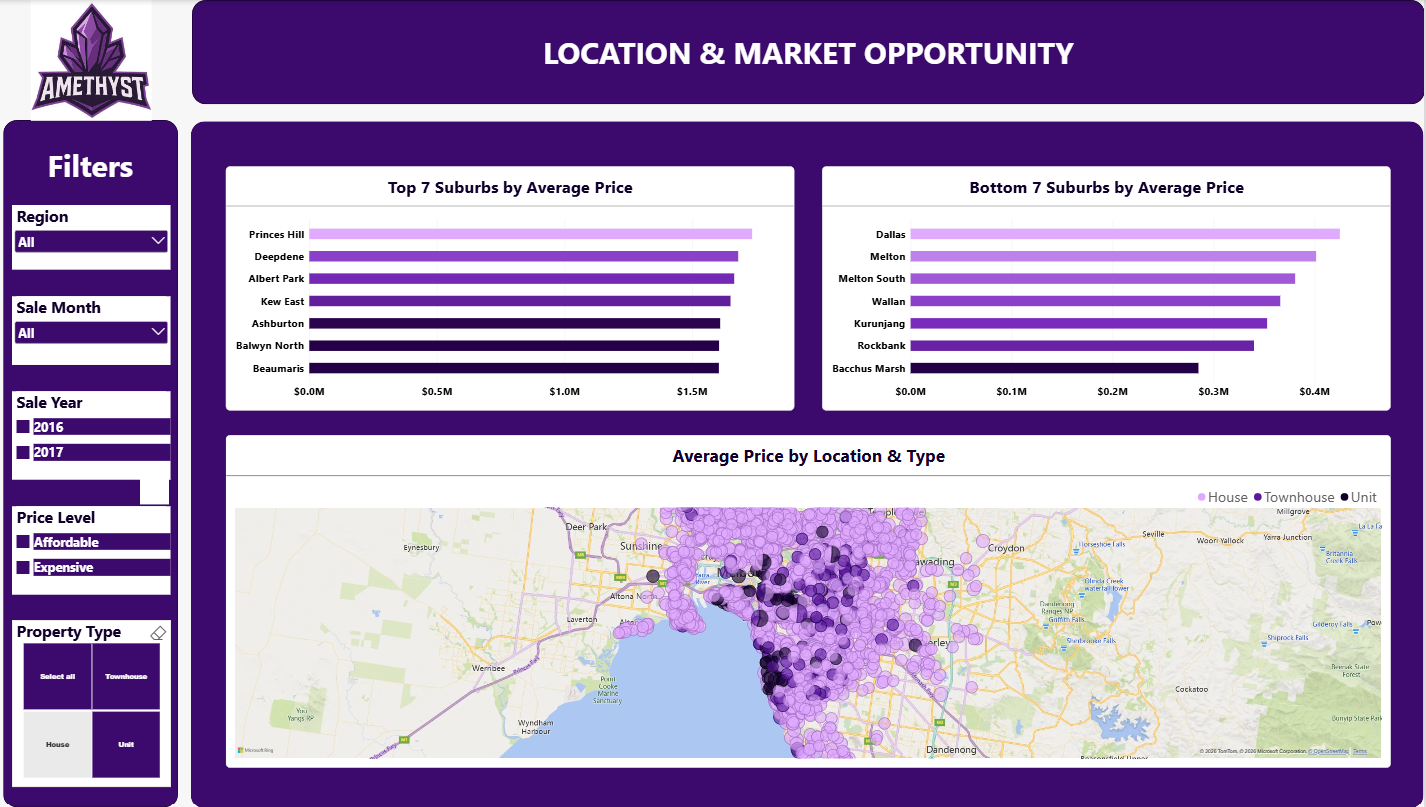

The dashboard page shown, as its layout file describes it:
{"tool":"powerbi","page":{"name":"LOCATION & MARKET OPPORTUNITY","canvas":[2560,1440],"ordinal":2},"visuals":[{"type":"shape","box":[364.3,0,2195.7,185.8],"z":0},{"type":"textbox","box":[912.1,55.5,1100.3,74.8],"z":1000},{"type":"shape","box":[363.8,215,2195.7,1225.7],"z":2000},{"type":"shape","box":[29,214.7,311.3,1225.7],"z":3000},{"type":"image","box":[67.5,0,237.5,215],"z":4000},{"type":"slicer","fields":{"Values":["melb_data_cleaned.Regionname"]},"box":[45,365,282.5,115],"z":5000},{"type":"textbox","box":[80,257.5,207.5,75],"z":6000},{"type":"slicer","fields":{"Values":["melb_data_cleaned.Type"]},"box":[45,1105,282.5,297.5],"z":7000},{"type":"slicer","fields":{"Values":["melb_data_cleaned.Sale_Year"]},"box":[45,696.2,282.5,157.5],"z":8000},{"type":"slicer","fields":{"Values":["melb_data_cleaned.Price_Level"]},"box":[45,900.6,282.5,157.5],"z":9000},{"type":"slicer","fields":{"Values":["melb_data_cleaned.Sale_Month"]},"box":[45,526.9,282.5,122.5],"z":10000},{"type":"map","title":"Average Price by Location & Type","fields":{"Y":["melb_data_cleaned.Lattitude"],"X":["melb_data_cleaned.Longtitude"],"Series":["melb_data_cleaned.Type"],"Size":["melb_data_cleaned.Average Price"]},"box":[425,775,2075,592.5],"z":11000},{"type":"barChart","title":"Top 7 Suburbs by Average Price","fields":{"Y":["melb_data_cleaned.Average Price"],"Category":["melb_data_cleaned.Suburb"]},"box":[425,295,1012.5,435],"z":12000},{"type":"barChart","title":"Bottom 7 Suburbs by Average Price","fields":{"Y":["melb_data_cleaned.Average Price"],"Category":["melb_data_cleaned.Suburb"]},"box":[1487.5,295,1012.5,435],"z":13000}]}

Visuals, with their boxes in screenshot pixels (x1, y1, x2, y2), scaled from the page's 2560x1440 canvas onto the 1426x807 screenshot:
shape: [x1=203, y1=0, x2=1425, y2=104]
textbox: [x1=508, y1=31, x2=1121, y2=73]
shape: [x1=203, y1=120, x2=1425, y2=806]
shape: [x1=16, y1=120, x2=190, y2=806]
image: [x1=38, y1=0, x2=170, y2=120]
slicer - melb_data_cleaned.Regionname: [x1=25, y1=205, x2=182, y2=269]
textbox: [x1=45, y1=144, x2=160, y2=186]
slicer - melb_data_cleaned.Type: [x1=25, y1=619, x2=182, y2=786]
slicer - melb_data_cleaned.Sale_Year: [x1=25, y1=390, x2=182, y2=478]
slicer - melb_data_cleaned.Price_Level: [x1=25, y1=505, x2=182, y2=593]
slicer - melb_data_cleaned.Sale_Month: [x1=25, y1=295, x2=182, y2=364]
"Average Price by Location & Type" map: [x1=237, y1=434, x2=1393, y2=766]
"Top 7 Suburbs by Average Price" barChart: [x1=237, y1=165, x2=801, y2=409]
"Bottom 7 Suburbs by Average Price" barChart: [x1=829, y1=165, x2=1393, y2=409]
